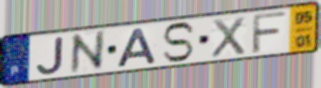A: (114, 26, 159, 69)
F: (250, 10, 289, 56)
J: (34, 35, 66, 77)
N: (69, 28, 107, 76)
S: (160, 21, 197, 64)
X: (209, 15, 247, 60)
